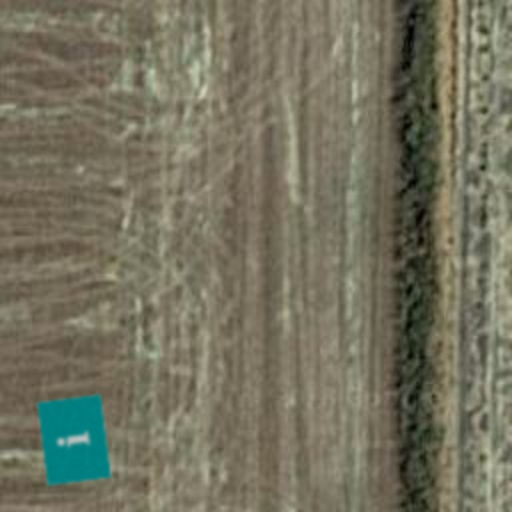rectangle: (26, 392, 122, 488)
